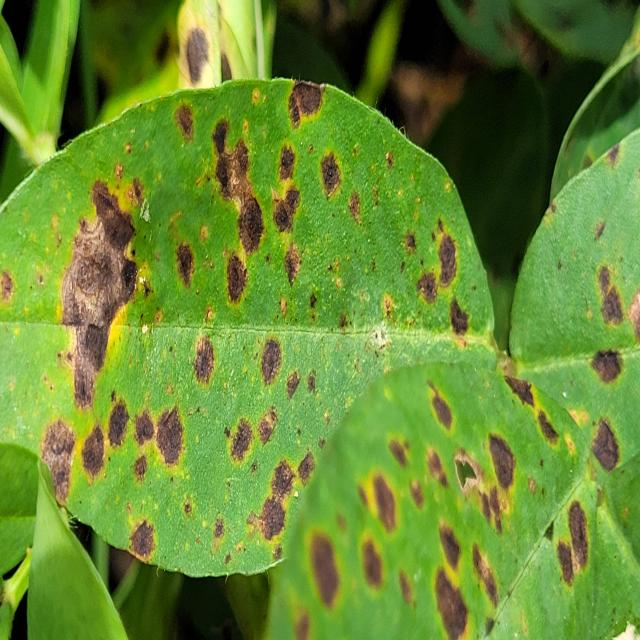Ground nut_tikka leaf spot: (0, 76, 497, 581), (272, 356, 604, 640)
